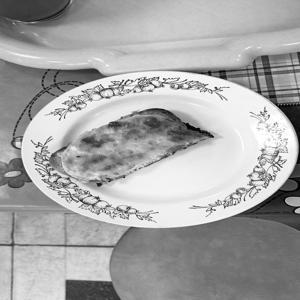cheese_sandwich: (41, 102, 222, 191)
